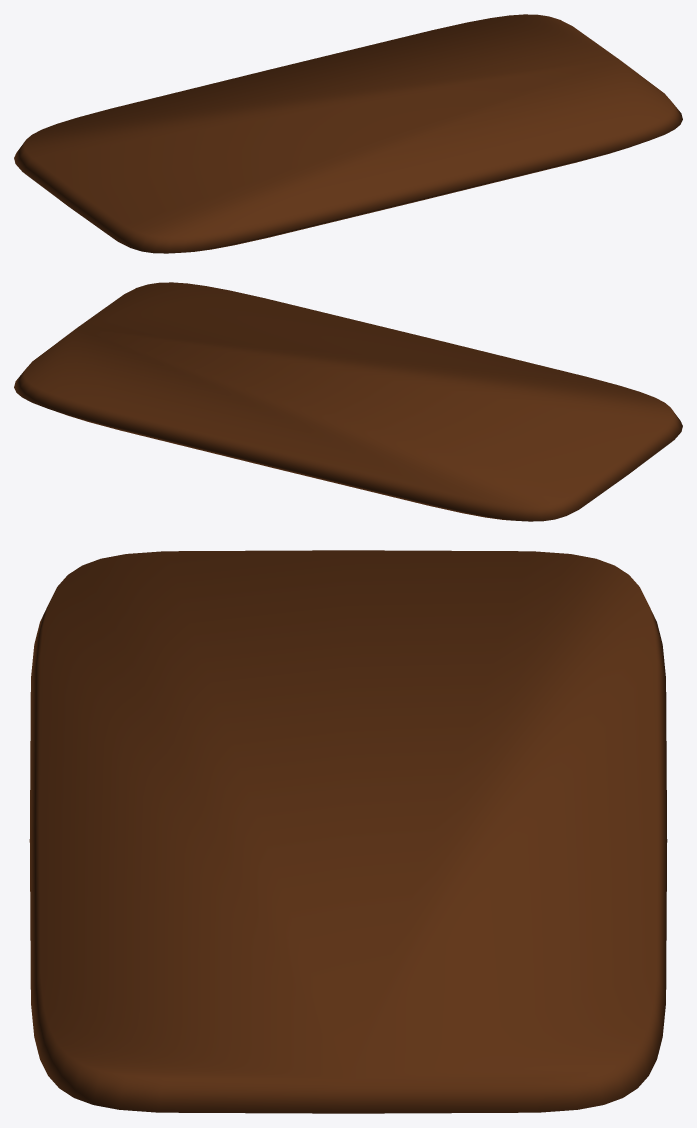
The model's file is Oil_Joined_Surface.fbx.
The picture shows the model from 3 angles, top to bottom: view 1: azimuth 30°, elevation 25°; view 2: azimuth 150°, elevation 25°; view 3: azimuth 270°, elevation 25°; orthographic projection. The views are drawn at different scales.
Parts seen in each view (by area): view 1: Two_cells_no_internal_seam; view 2: Two_cells_no_internal_seam; view 3: Two_cells_no_internal_seam.
Part boxes in pixels (left/top/right/bottom): Two_cells_no_internal_seam: left=14, top=14, right=682, bottom=253; Two_cells_no_internal_seam: left=14, top=282, right=682, bottom=521; Two_cells_no_internal_seam: left=29, top=550, right=667, bottom=1113.
Bounding box in the file's own units: 158 × 5.5 × 78.
